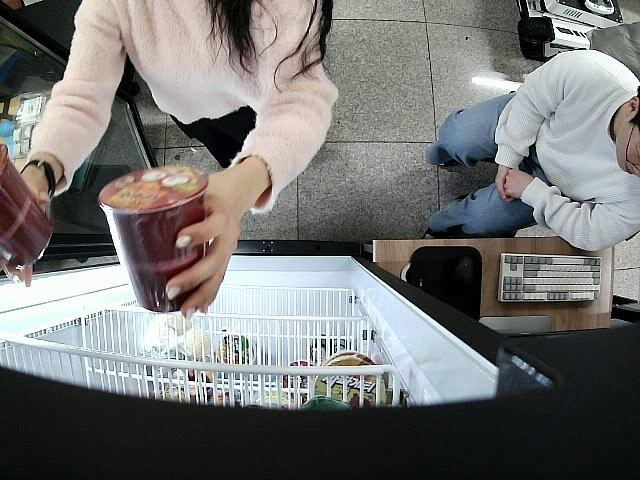06_nuguri_S: (99, 165, 210, 314), (0, 143, 53, 267)
